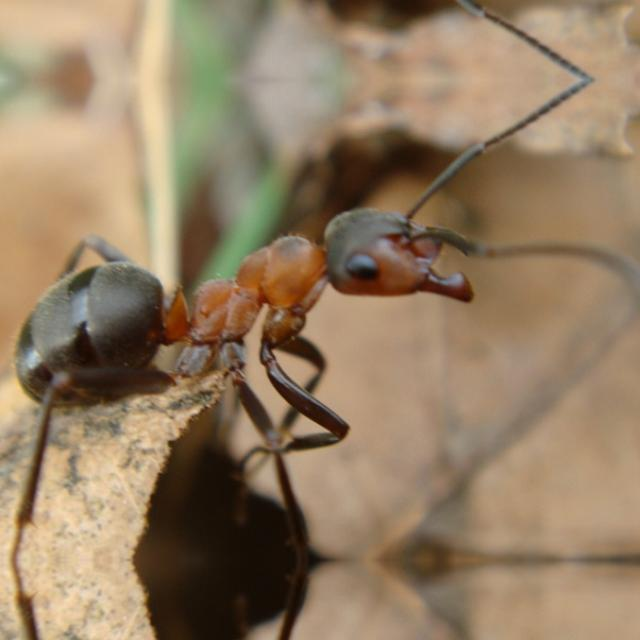Formica: (0, 132, 544, 436)
